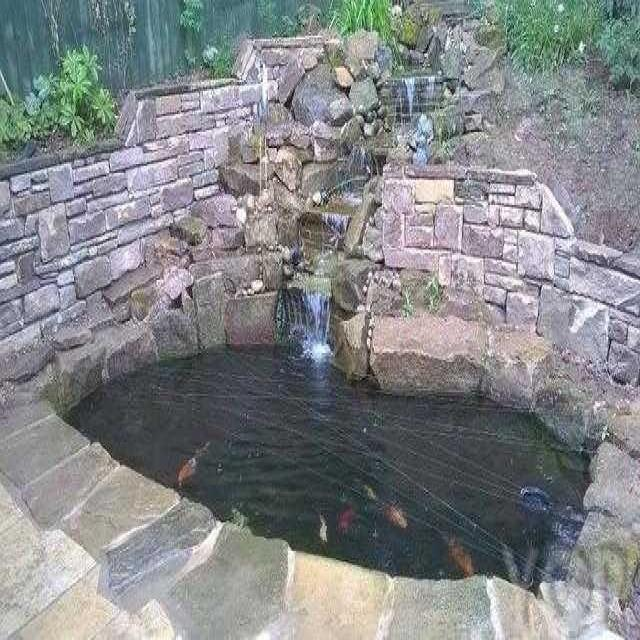Ponds: (1, 122, 640, 640)
